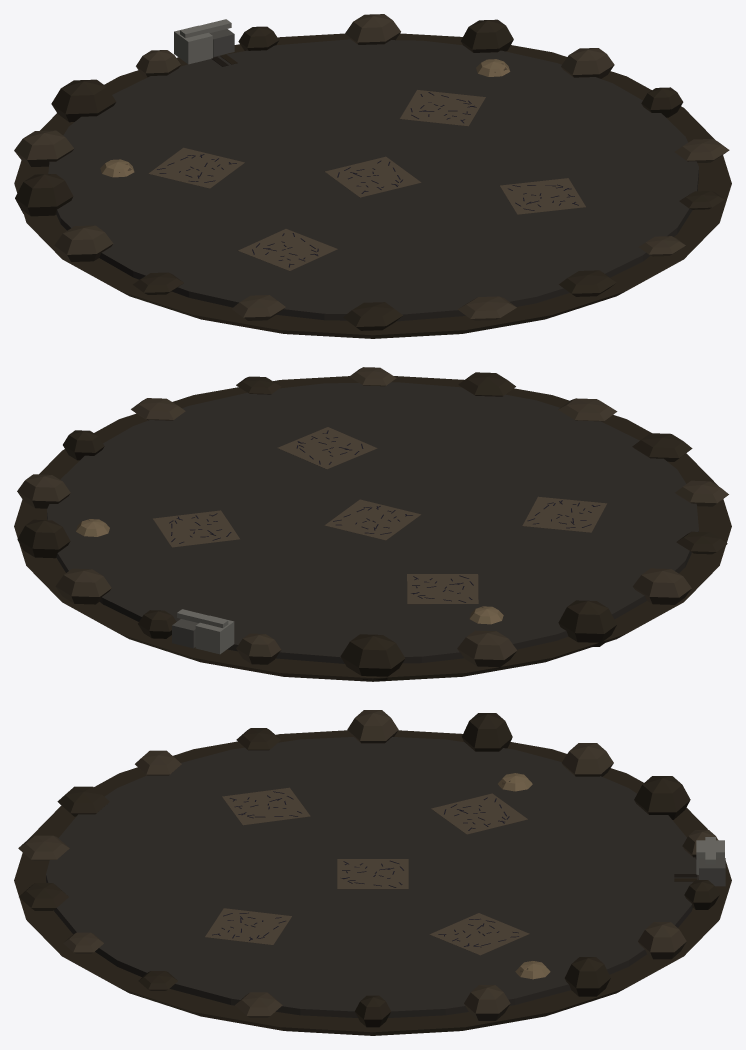
Rendered from s3_arena_b27.glb.
3 views of the same model, one above another, from view 1: azimuth 30°, elevation 25°; view 2: azimuth 150°, elevation 25°; view 3: azimuth 270°, elevation 25° (orthographic).
Parts seen in each view (by area): view 1: s3_arena_b27; view 2: s3_arena_b27; view 3: s3_arena_b27.
Part boxes in pixels (<box>): s3_arena_b27: <box>14,14,731,338</box>; s3_arena_b27: <box>14,367,731,681</box>; s3_arena_b27: <box>14,710,731,1035</box>.
Size of the model in its own units: 40.51 by 2.83 by 40.4.
